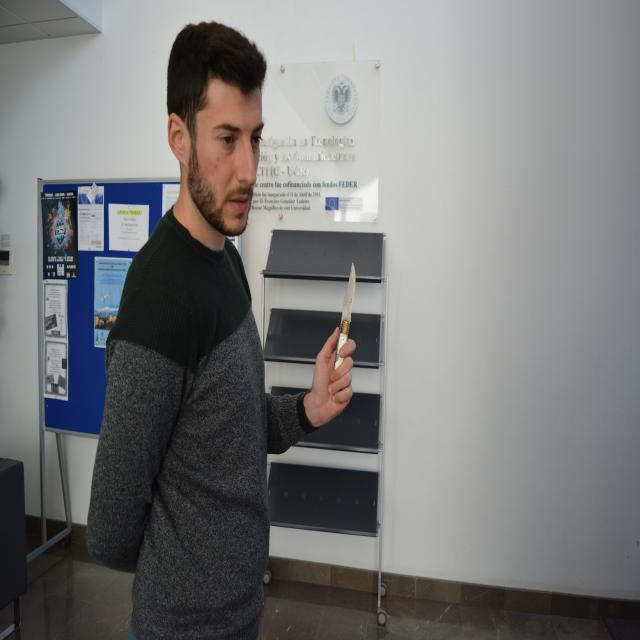knife: (333, 265, 361, 376)
